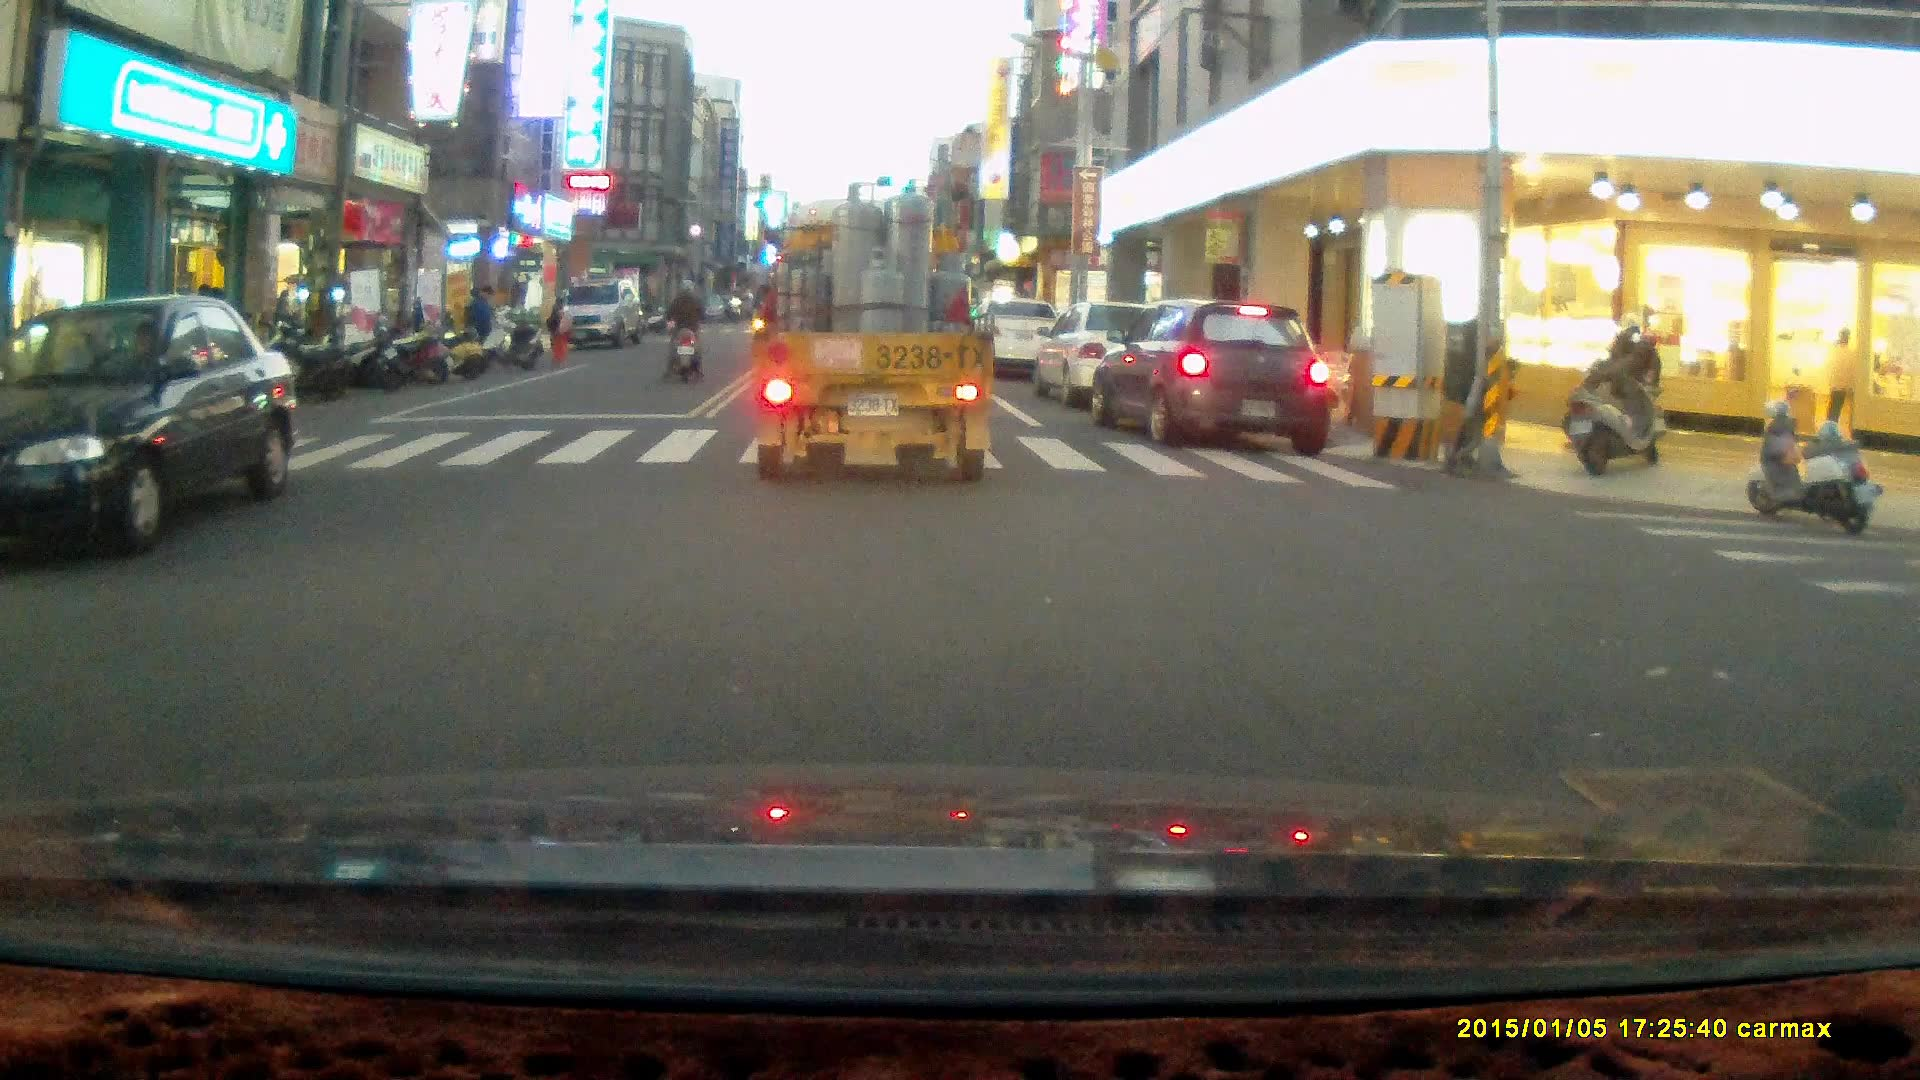pedestrian: (464, 282, 499, 367), (542, 292, 572, 365)
rider: (1561, 314, 1660, 463), (658, 277, 704, 387)
vehicle: (1, 292, 307, 556), (752, 178, 995, 486), (1097, 296, 1330, 453), (1041, 304, 1201, 414), (969, 296, 1068, 382), (558, 283, 651, 353)
